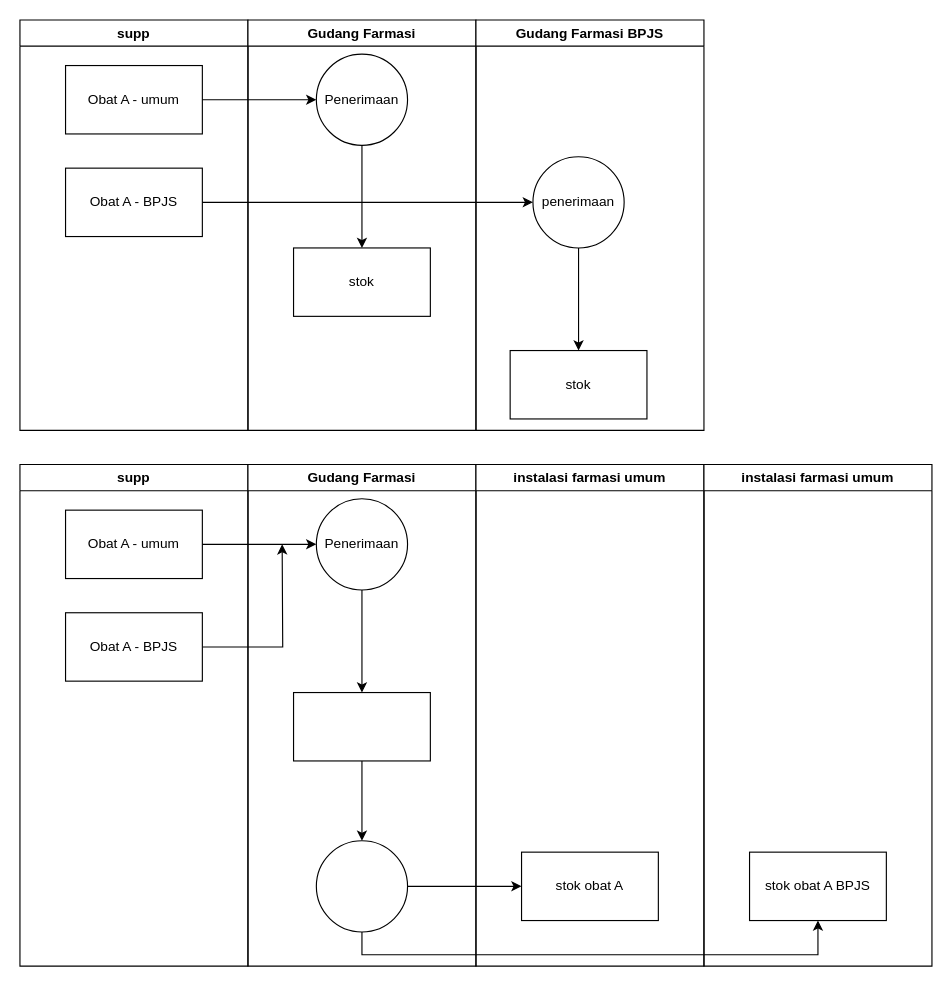
The diagram is 952 pixels wide and 986 high, and some of its shapes have lost their labels. The shapes that lost their labels are listed below. From the top down, each one's centre as x and y in pixels, then its label:
point 361,726: persediaan
point 361,886: distribusi
